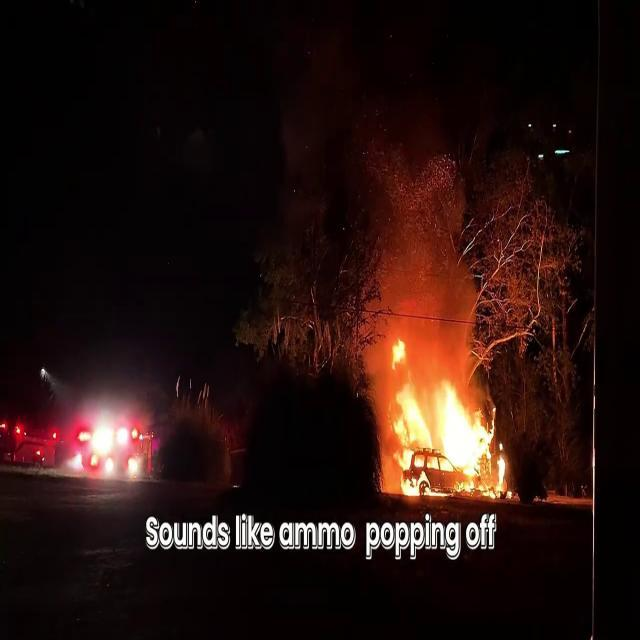Fire: (384, 339, 510, 497)
Smoke: (346, 75, 482, 354)
